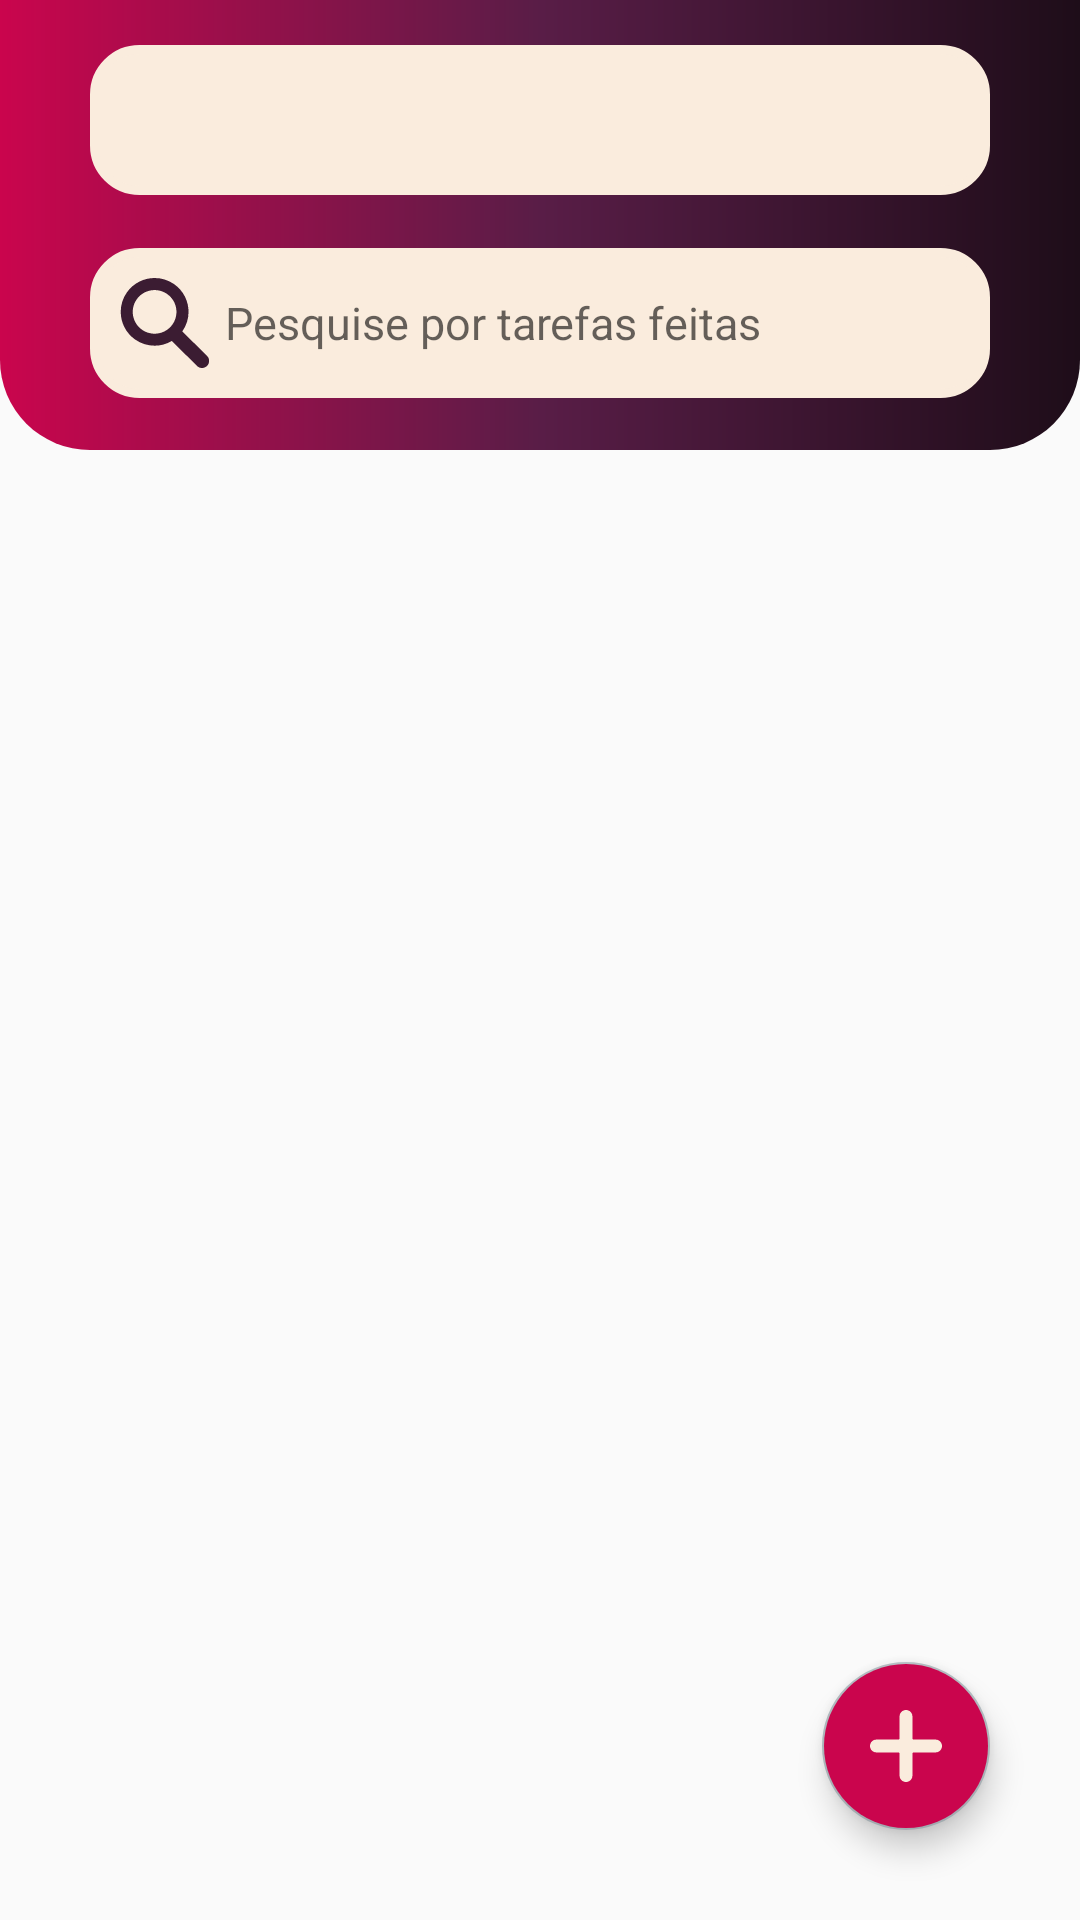

Screen size 1080*1920. Icon name, then its box in pixels as (x1, y1, x2, y2):
Criar tarefa: (822, 1662, 990, 1830)
search task: (120, 278, 209, 368)
